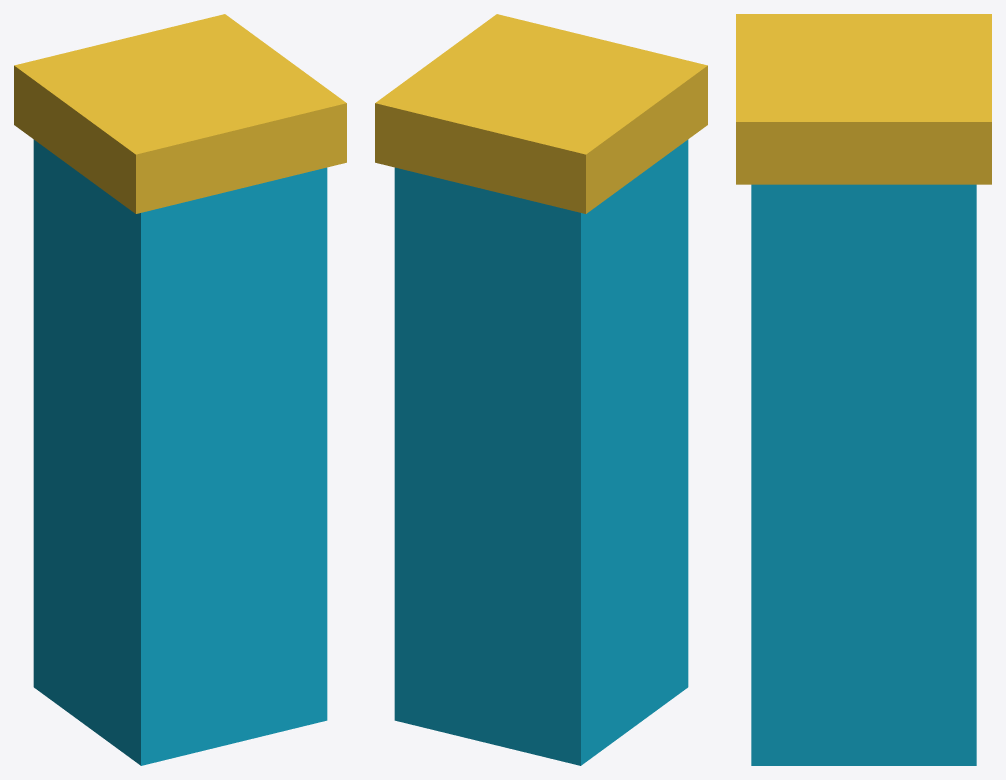
Rendered from HR-086-ASM_public_shell.glb.
3 renders of one model, left to right at view 1: azimuth 30°, elevation 25°; view 2: azimuth 150°, elevation 25°; view 3: azimuth 270°, elevation 25°, orthographic. The views are drawn at different scales.
Parts seen in each view (by area): view 1: HR-086-BIPV-02 | 1700kWp BIPV Curtain Facade and Modules, HR-086-SKY-03 | Self-Climbing Robotic Sky-Factory Canopy; view 2: HR-086-BIPV-02 | 1700kWp BIPV Curtain Facade and Modules, HR-086-SKY-03 | Self-Climbing Robotic Sky-Factory Canopy; view 3: HR-086-BIPV-02 | 1700kWp BIPV Curtain Facade and Modules, HR-086-SKY-03 | Self-Climbing Robotic Sky-Factory Canopy.
Part boxes in pixels (<box>): HR-086-BIPV-02 | 1700kWp BIPV Curtain Facade and Modules: <box>33,139,327,765</box>; HR-086-SKY-03 | Self-Climbing Robotic Sky-Factory Canopy: <box>14,14,346,213</box>; HR-086-BIPV-02 | 1700kWp BIPV Curtain Facade and Modules: <box>394,139,688,765</box>; HR-086-SKY-03 | Self-Climbing Robotic Sky-Factory Canopy: <box>375,14,707,213</box>; HR-086-BIPV-02 | 1700kWp BIPV Curtain Facade and Modules: <box>751,184,976,765</box>; HR-086-SKY-03 | Self-Climbing Robotic Sky-Factory Canopy: <box>736,14,991,184</box>.
Bounding box in the file's own units: 20.4 × 57.25 × 20.4.
